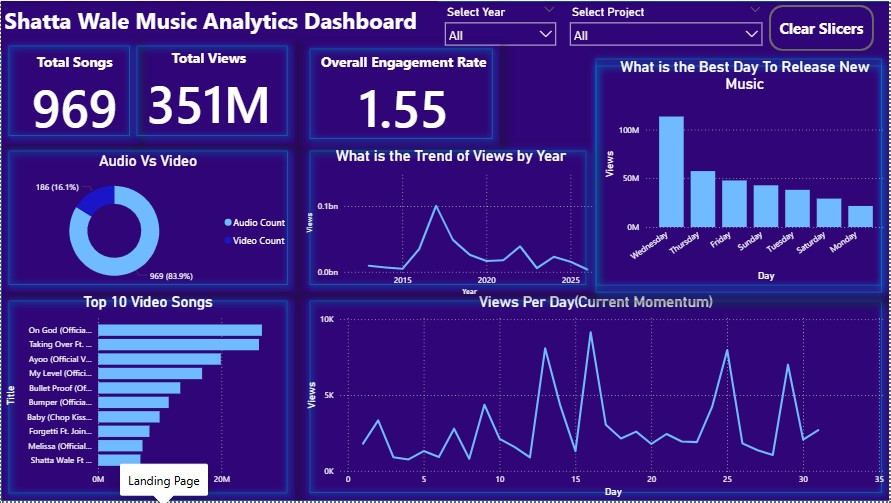

This screenshot's page, from the dashboard's own definition file:
{"tool":"powerbi","page":{"name":"Landing Page","canvas":[1280,720],"ordinal":0},"visuals":[{"type":"shape","title":"Background","box":[0,0,1280.2,720],"z":0},{"type":"cardVisual","fields":{"Data":["platform_metrics_dim_table.Total Views"]},"box":[172.6,53,251.2,152.1],"z":1000},{"type":"cardVisual","fields":{"Data":["platform_metrics_dim_table.Overall Engagement Rate"]},"box":[423.8,56.4,311,157.2],"z":4000},{"type":"textbox","box":[0,0,629.3,72],"z":8000},{"type":"slicer","fields":{"Values":["songs_fact_table.release_year"]},"box":[629.3,0,180,72],"z":9000},{"type":"slicer","fields":{"Values":["project_dim_table.title"]},"box":[809.3,0,296.6,72],"z":10000},{"type":"actionButton","box":[1105.9,5.8,151.2,66.2],"z":11000},{"type":"cardVisual","fields":{"Data":["songs_fact_table.Total Songs"]},"box":[0,53,210.2,164.1],"z":12000},{"type":"shape","box":[0,53,196.5,152.1],"z":13000},{"type":"shape","box":[184.6,53,239.3,152.1],"z":14000},{"type":"shape","box":[434.1,58.1,285.4,152.1],"z":15000},{"type":"shape","box":[0,205.1,423.8,215.3],"z":16000},{"type":"donutChart","title":"Audio Vs Video","fields":{"Y":["CountNonNull(songs_fact_table.audio)","songs_fact_table.Video Count"]},"box":[0,217.4,423.4,203],"z":16500},{"type":"shape","box":[434.1,420.4,845.9,299.1],"z":17000},{"type":"lineChart","title":"Views Per Day(Current Momentum)","fields":{"Category":["songs_fact_table.release_date.Variation.Date Hierarchy.Day"],"Y":["platform_metrics_dim_table.Views Per Day"]},"box":[434.1,420.4,845.9,299.1],"z":17500},{"type":"shape","box":[0,420.5,423.4,299.5],"z":18000},{"type":"barChart","title":"Top 10 Video Songs","fields":{"Category":["songs_fact_table.title"],"Y":["Sum(platform_metrics_dim_table.views)"]},"box":[0,420.5,423.4,299.5],"z":18500},{"type":"shape","box":[434.1,205.1,420.4,215.3],"z":19000},{"type":"lineChart","title":"What is the Trend of Views by Year","fields":{"Category":["songs_fact_table.release_year"],"Y":["Sum(platform_metrics_dim_table.views)"]},"box":[434.1,210.2,428.9,218.7],"z":19500},{"type":"shape","box":[845.9,71.8,434.1,348.6],"z":20000},{"type":"shape","box":[845.9,81.8,434.1,348.6],"z":21000},{"type":"columnChart","title":"What is the Best Day To Release New Music","fields":{"Y":["Sum(platform_metrics_dim_table.views)"],"Category":["songs_fact_table.release_day_name"]},"box":[863,82,417,326.4],"z":21500}]}

Visuals, with their boxes in screenshot pixels (x1, y1, x2, y2), scaled from the page's 1280x720 canvas onto the 891x503 screenshot:
"Background" shape: {"left": 0, "top": 0, "right": 890, "bottom": 502}
cardVisual - platform_metrics_dim_table.Total Views: {"left": 120, "top": 37, "right": 295, "bottom": 143}
cardVisual - platform_metrics_dim_table.Overall Engagement Rate: {"left": 295, "top": 39, "right": 511, "bottom": 149}
textbox: {"left": 0, "top": 0, "right": 438, "bottom": 50}
slicer - songs_fact_table.release_year: {"left": 438, "top": 0, "right": 563, "bottom": 50}
slicer - project_dim_table.title: {"left": 563, "top": 0, "right": 770, "bottom": 50}
actionButton: {"left": 770, "top": 4, "right": 875, "bottom": 50}
cardVisual - songs_fact_table.Total Songs: {"left": 0, "top": 37, "right": 146, "bottom": 152}
shape: {"left": 0, "top": 37, "right": 137, "bottom": 143}
shape: {"left": 128, "top": 37, "right": 295, "bottom": 143}
shape: {"left": 302, "top": 41, "right": 501, "bottom": 147}
shape: {"left": 0, "top": 143, "right": 295, "bottom": 294}
"Audio Vs Video" donutChart: {"left": 0, "top": 152, "right": 295, "bottom": 294}
shape: {"left": 302, "top": 294, "right": 890, "bottom": 502}
"Views Per Day(Current Momentum)" lineChart: {"left": 302, "top": 294, "right": 890, "bottom": 502}
shape: {"left": 0, "top": 294, "right": 295, "bottom": 502}
"Top 10 Video Songs" barChart: {"left": 0, "top": 294, "right": 295, "bottom": 502}
shape: {"left": 302, "top": 143, "right": 595, "bottom": 294}
"What is the Trend of Views by Year" lineChart: {"left": 302, "top": 147, "right": 601, "bottom": 300}
shape: {"left": 589, "top": 50, "right": 890, "bottom": 294}
shape: {"left": 589, "top": 57, "right": 890, "bottom": 301}
"What is the Best Day To Release New Music" columnChart: {"left": 601, "top": 57, "right": 890, "bottom": 285}
